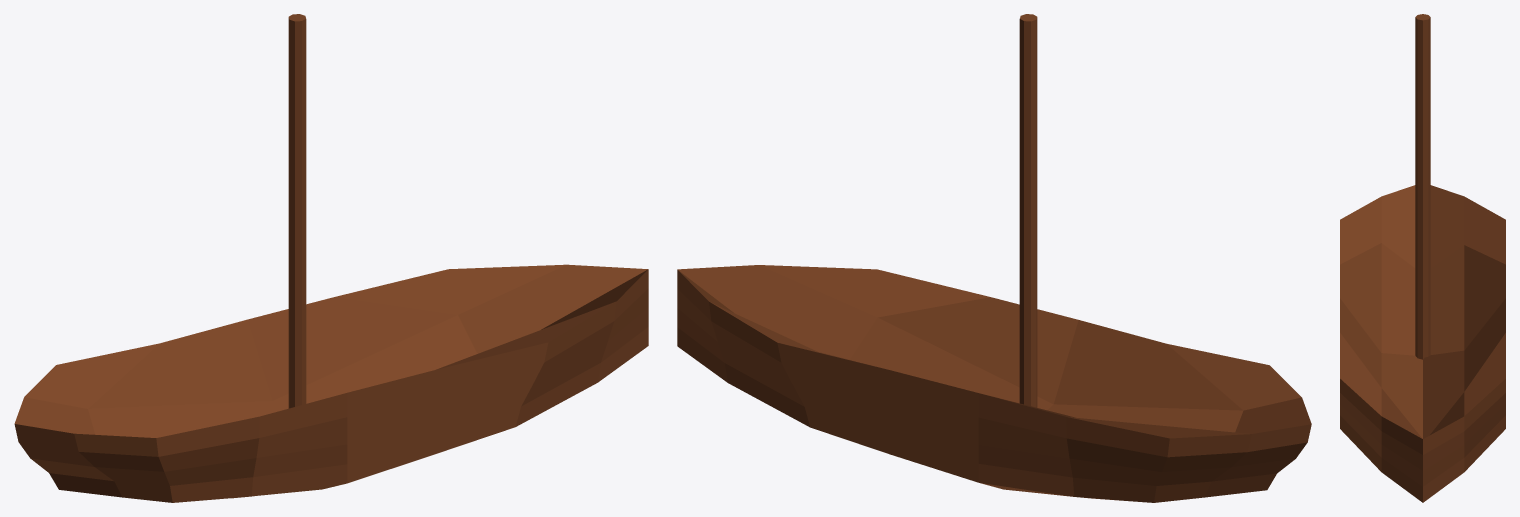
The model's file is ship2.fbx.
The picture shows the model from 3 angles, left to right: view 1: azimuth 30°, elevation 25°; view 2: azimuth 150°, elevation 25°; view 3: azimuth 270°, elevation 25°; orthographic projection. The views are drawn at different scales.
Visible parts, largest first — view 1: Cube, Cylinder; view 2: Cube, Cylinder; view 3: Cube, Cylinder.
Part boxes in pixels (x1=…): Cube: x1=14, y1=264, x2=648, y2=502; Cylinder: x1=288, y1=14, x2=306, y2=408; Cube: x1=677, y1=265, x2=1311, y2=502; Cylinder: x1=1019, y1=14, x2=1037, y2=407; Cube: x1=1340, y1=185, x2=1505, y2=502; Cylinder: x1=1415, y1=14, x2=1430, y2=359.
Size of the model in its own units: 8010 by 5611 by 2187.
